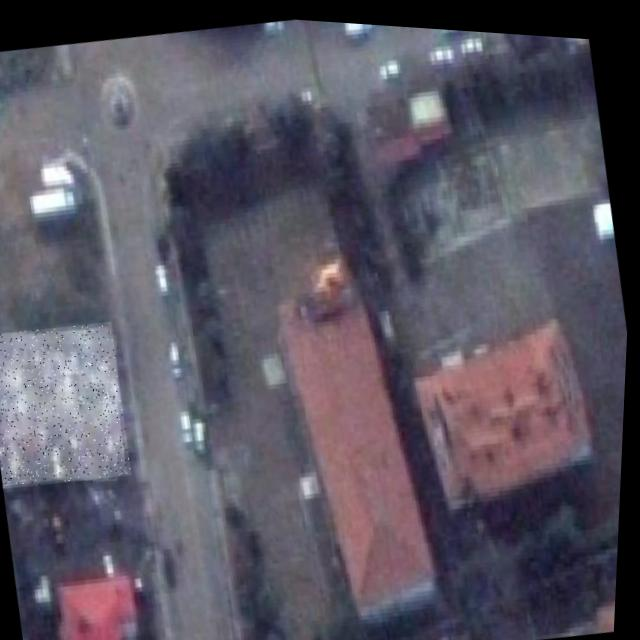Rubble: (0, 313, 140, 495)
